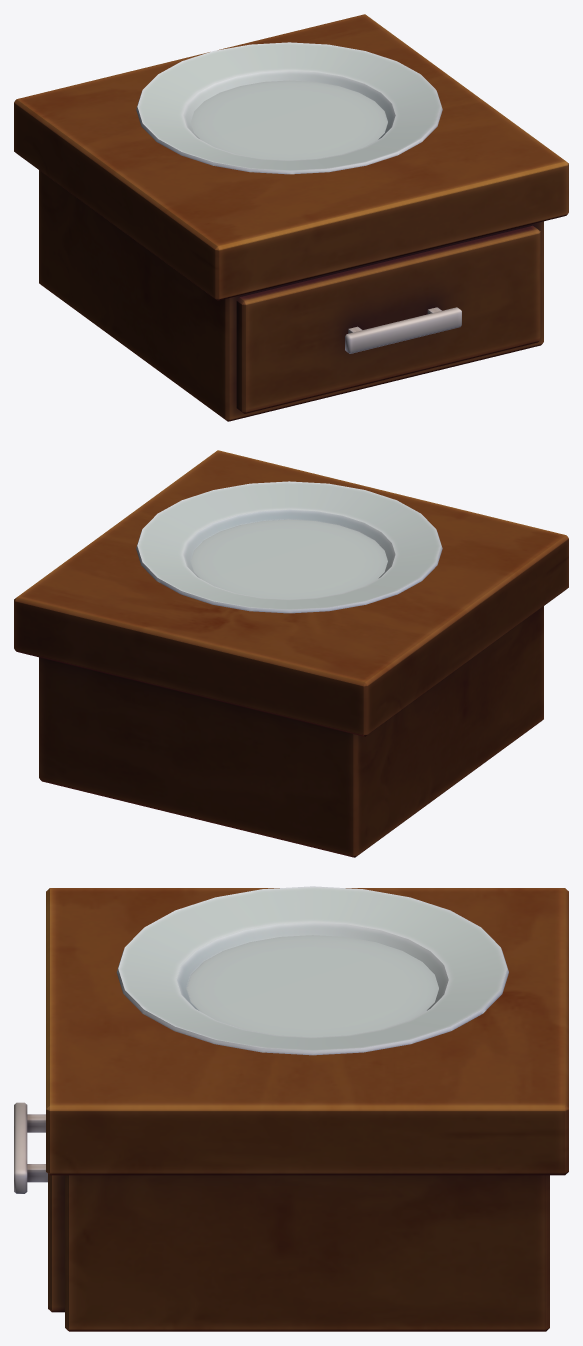
Rendered from PlateStorage.obj.
The picture shows the model from 3 angles, top to bottom: view 1: azimuth 30°, elevation 25°; view 2: azimuth 150°, elevation 25°; view 3: azimuth 270°, elevation 25°; orthographic projection. The views are drawn at different scales.
Parts seen in each view (by area): view 1: Kitchen_Cabin-2.002, Plate; view 2: Kitchen_Cabin-2.002, Plate; view 3: Kitchen_Cabin-2.002, Plate.
Boxes of the visible parts, box(x1,y1,x2,y2) form: Kitchen_Cabin-2.002: box(14, 14, 568, 421); Plate: box(136, 42, 442, 174); Kitchen_Cabin-2.002: box(14, 450, 568, 857); Plate: box(136, 481, 442, 613); Kitchen_Cabin-2.002: box(14, 888, 568, 1331); Plate: box(116, 886, 508, 1055).
Bounding box in the file's own units: 2 × 1.12 × 2.12.
2 materials, 2 textured.
